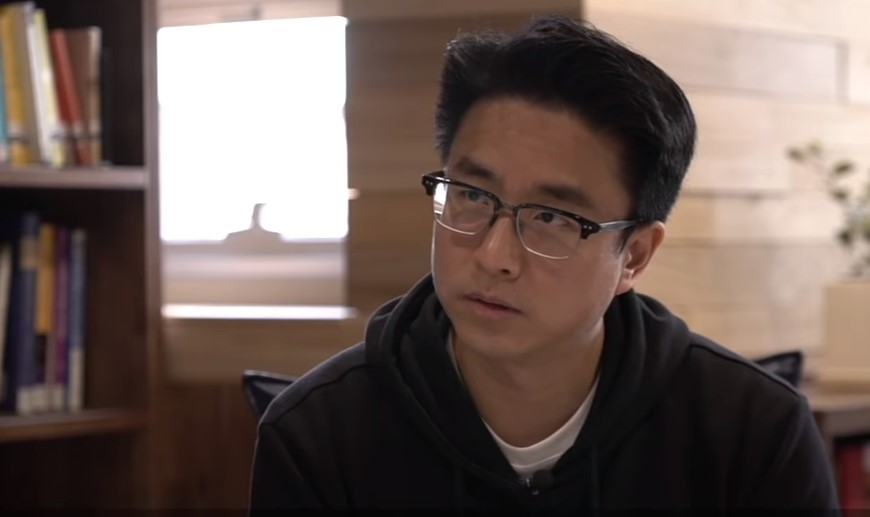face_no_mask: (422, 66, 647, 355)
